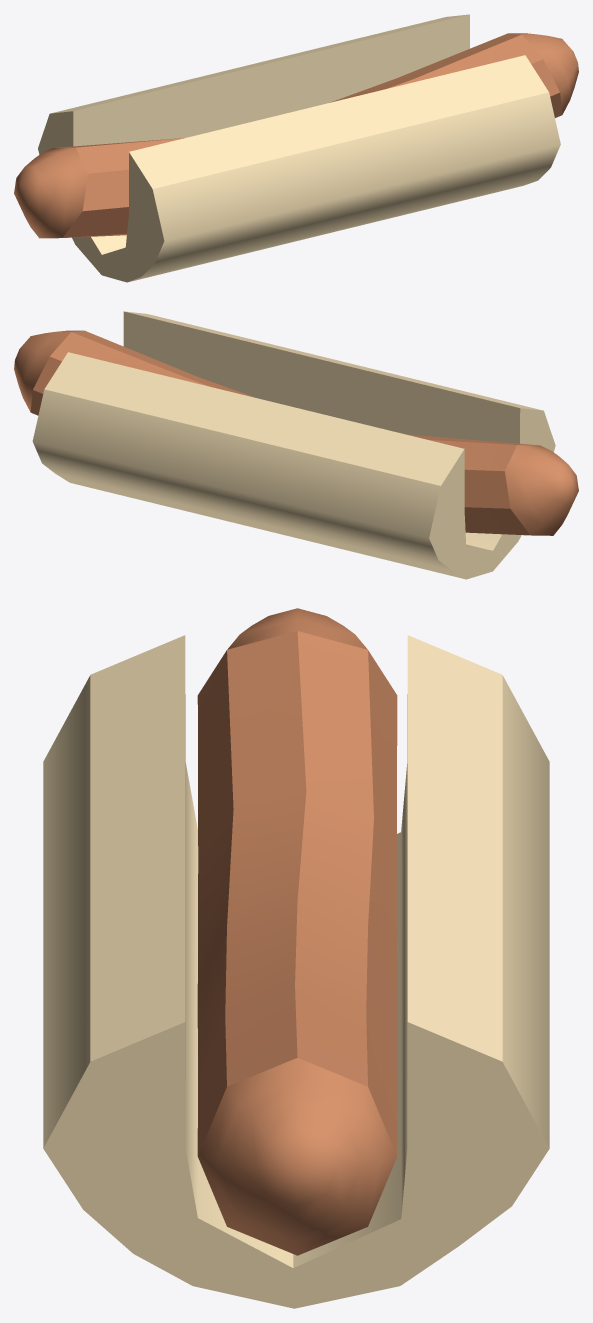
The model's file is HotDog.fbx.
3 renders of one model, top to bottom at view 1: azimuth 30°, elevation 25°; view 2: azimuth 150°, elevation 25°; view 3: azimuth 270°, elevation 25°, orthographic. The views are drawn at different scales.
Parts seen in each view (by area): view 1: Bun, HotDog; view 2: Bun, HotDog; view 3: Bun, HotDog.
Boxes of the visible parts, bbox=[...] form: Bun: bbox=[38, 14, 560, 282]; HotDog: bbox=[14, 33, 578, 238]; Bun: bbox=[32, 311, 555, 579]; HotDog: bbox=[14, 330, 578, 535]; Bun: bbox=[43, 635, 549, 1308]; HotDog: bbox=[197, 608, 397, 1255].
Bounding box in the file's own units: 288 × 71.1 × 114.
